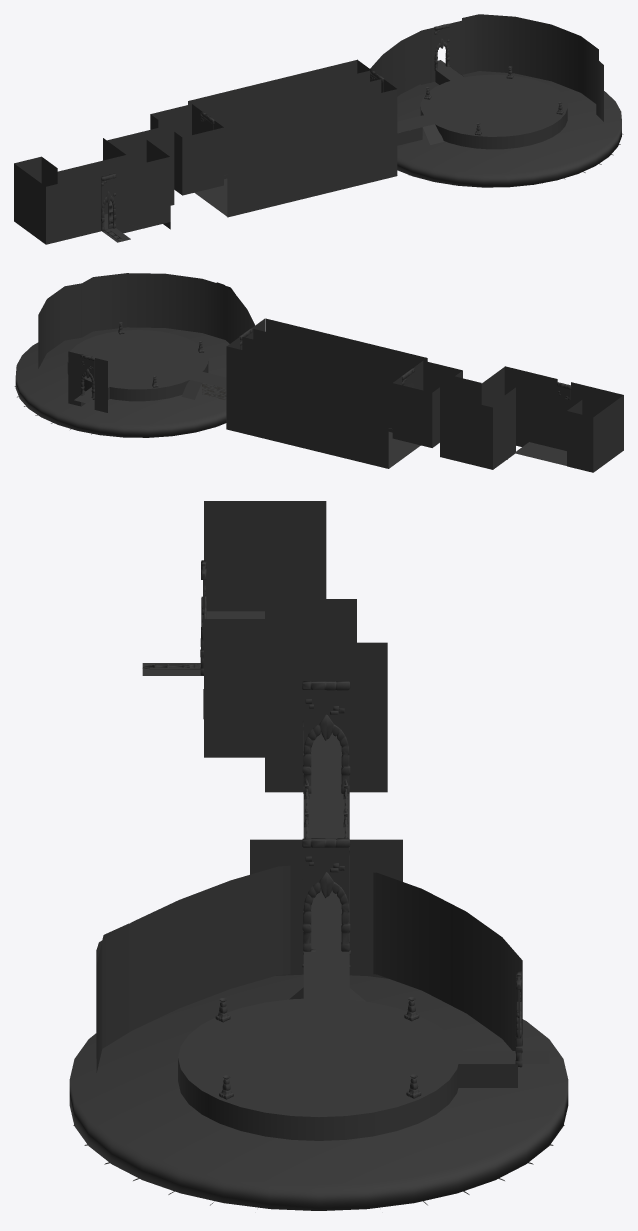
File: SecondRoom_Bridge_SecondBoss.FBX
The picture shows the model from 3 angles, top to bottom: view 1: azimuth 30°, elevation 25°; view 2: azimuth 150°, elevation 25°; view 3: azimuth 270°, elevation 25°; orthographic projection. The views are drawn at different scales.
Parts seen in each view (by area): view 1: SM_Wall_Tall511, SM_Ceiling_Round2, SM_Boss_Room_Floor1, SM_Env_Wall_Alcove_Round_01_Texture2, SM_Wall_Tall383, SM_Wall_Tall243, SM_Wall_Tall488, SM_Wall_Tall429, SM_Env_Wall_Alcove_Round_01_Texture1, SM_Wall_Tall347, SM_Wall_Tall444, SM_Wall_Tall357 (+18 smaller); view 2: SM_Wall_Tall488, SM_Ceiling_Round2, SM_Env_Wall_Alcove_Round_01_Texture3, SM_Boss_Room_Floor1, SM_Wall_Tall380, SM_Wall_Tall357, SM_Wall_Tall511, SM_Env_Wall_Alcove_Round_01_Texture2, SM_Wall_Tall409, SM_Wall_Tall347, SM_Wall_Tall386, SM_Wall_Tall581 (+18 smaller); view 3: SM_Ceiling_Round2, SM_Boss_Room_Floor1, SM_Env_Wall_Alcove_Round_01_Texture4, SM_Env_Wall_Alcove_Round_01_Texture1, SM_Wall_Tall377, SM_Wall_Tall347, SM_Wall_Tall386, SM_Wall_Tall519, SM_Wall_Tall352, SM_Wall_Tall431, SM_Wall_Tall415, SM_Floor_Ceiling804 (+9 smaller).
Part boxes in pixels (bbox=[...]): SM_Wall_Tall511: bbox=[227, 89, 397, 217]; SM_Ceiling_Round2: bbox=[397, 71, 623, 187]; SM_Boss_Room_Floor1: bbox=[420, 74, 567, 149]; SM_Env_Wall_Alcove_Round_01_Texture2: bbox=[462, 14, 598, 103]; SM_Wall_Tall383: bbox=[115, 156, 170, 233]; SM_Wall_Tall243: bbox=[46, 173, 101, 244]; SM_Wall_Tall488: bbox=[188, 59, 357, 179]; SM_Wall_Tall429: bbox=[182, 127, 223, 195]; SM_Env_Wall_Alcove_Round_01_Texture1: bbox=[370, 29, 431, 96]; SM_Wall_Tall347: bbox=[14, 163, 45, 244]; SM_Wall_Tall444: bbox=[214, 103, 283, 175]; SM_Wall_Tall357: bbox=[57, 155, 126, 214]; SM_Wall_Tall488: bbox=[226, 346, 388, 468]; SM_Ceiling_Round2: bbox=[14, 327, 229, 437]; SM_Env_Wall_Alcove_Round_01_Texture3: bbox=[82, 273, 235, 339]; SM_Boss_Room_Floor1: bbox=[67, 330, 208, 401]; SM_Wall_Tall380: bbox=[440, 394, 492, 469]; SM_Wall_Tall357: bbox=[516, 387, 578, 450]; SM_Wall_Tall511: bbox=[265, 318, 427, 432]; SM_Env_Wall_Alcove_Round_01_Texture2: bbox=[38, 283, 81, 368]; SM_Wall_Tall409: bbox=[392, 383, 432, 447]; SM_Wall_Tall347: bbox=[593, 395, 623, 472]; SM_Wall_Tall386: bbox=[493, 387, 515, 469]; SM_Wall_Tall581: bbox=[567, 411, 593, 472]; SM_Ceiling_Round2: bbox=[69, 974, 568, 1210]; SM_Boss_Room_Floor1: bbox=[178, 998, 459, 1140]; SM_Env_Wall_Alcove_Round_01_Texture4: bbox=[96, 865, 290, 1058]; SM_Env_Wall_Alcove_Round_01_Texture1: bbox=[373, 872, 522, 1050]; SM_Wall_Tall377: bbox=[204, 619, 295, 757]; SM_Wall_Tall347: bbox=[204, 501, 326, 611]; SM_Wall_Tall386: bbox=[265, 599, 356, 730]; SM_Wall_Tall519: bbox=[349, 839, 402, 978]; SM_Wall_Tall352: bbox=[265, 527, 326, 598]; SM_Wall_Tall431: bbox=[349, 681, 387, 792]; SM_Wall_Tall415: bbox=[265, 681, 302, 792]; SM_Floor_Ceiling804: bbox=[303, 887, 349, 999].
Bounding box in the file's own units: 21303 × 8147 × 3198.
